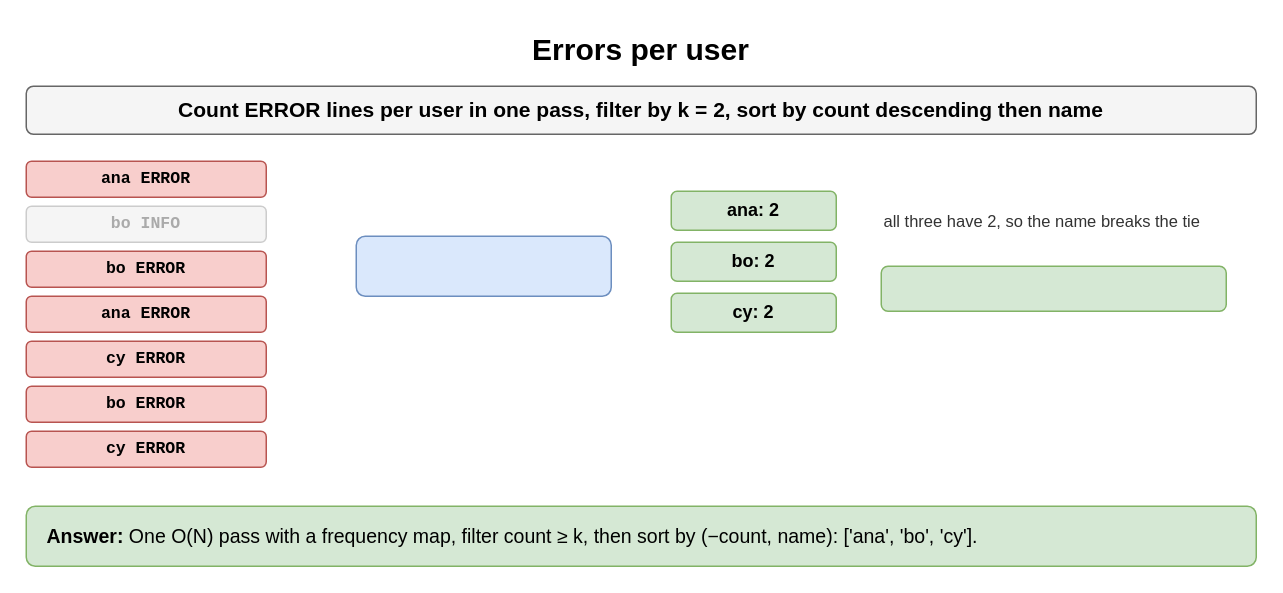
The diagram is 1283 pixels wide and 593 high, and some of its shapes have lost their labels. Each missing label, with the box of its shape:
Counter of ERROR users: (355, 235, 611, 296)
sorted: ['ana', 'bo', 'cy']: (880, 265, 1226, 311)
